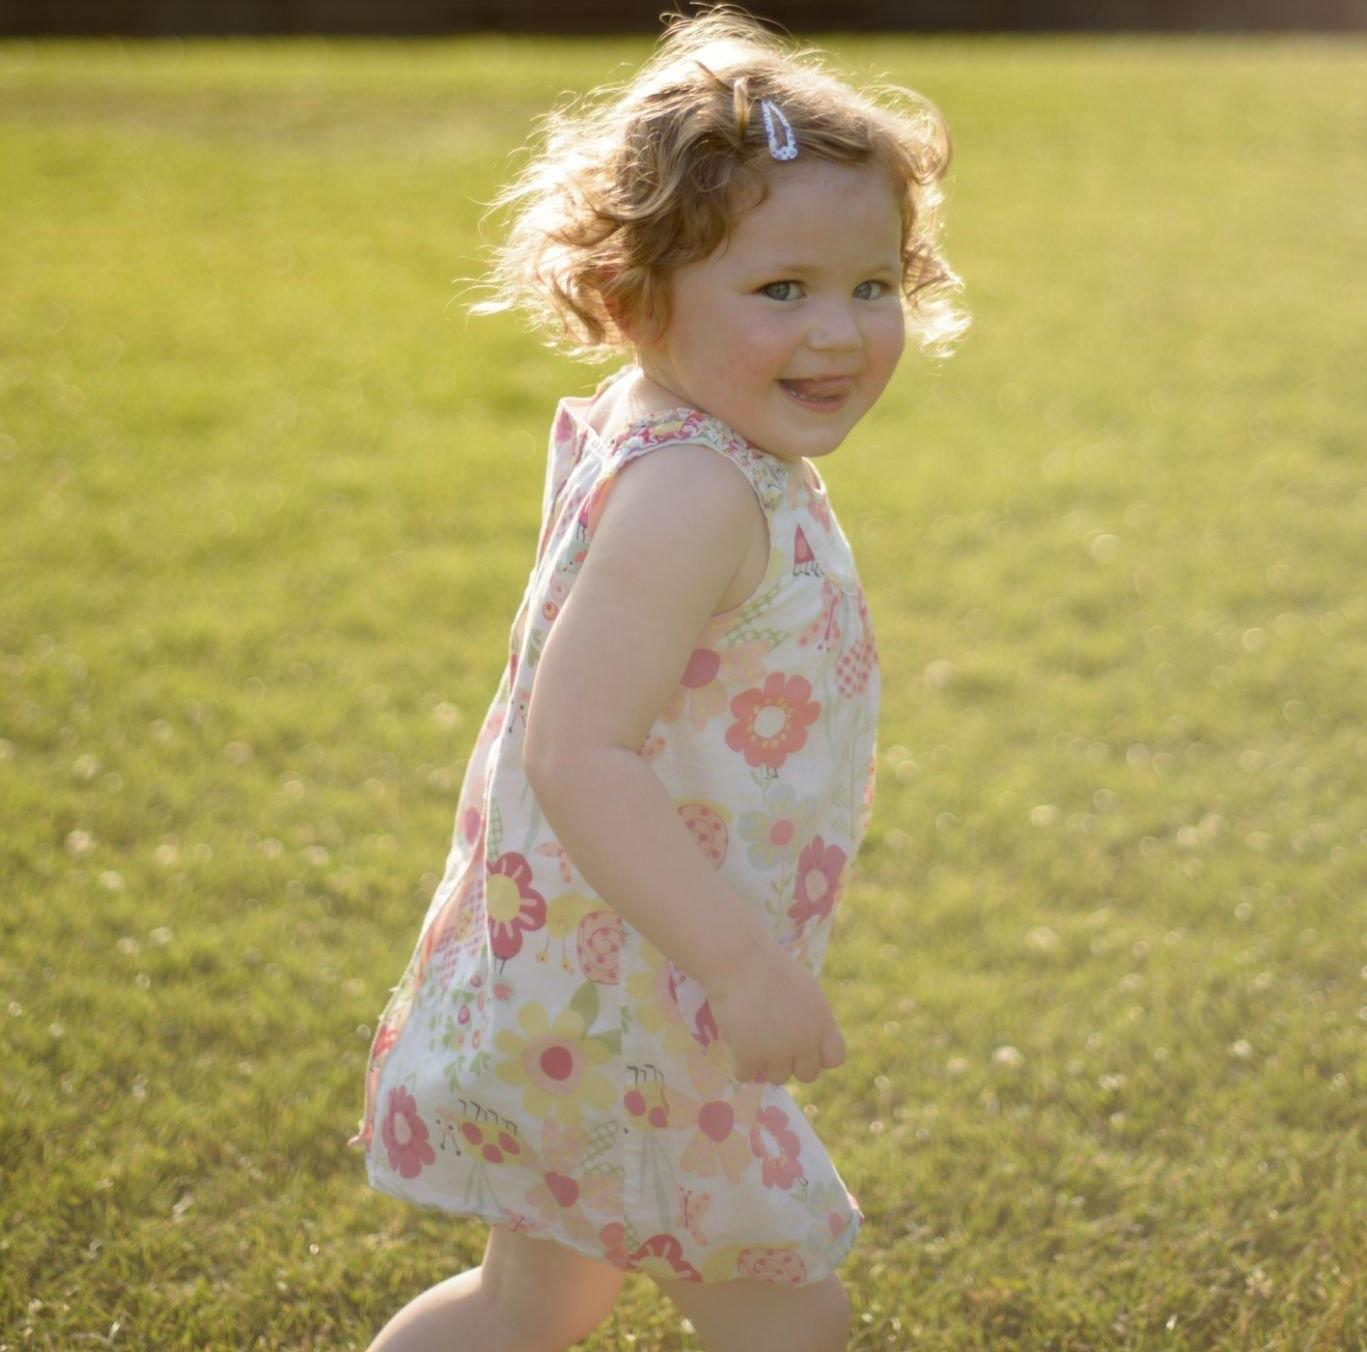Healthy: (646, 126, 942, 504)
